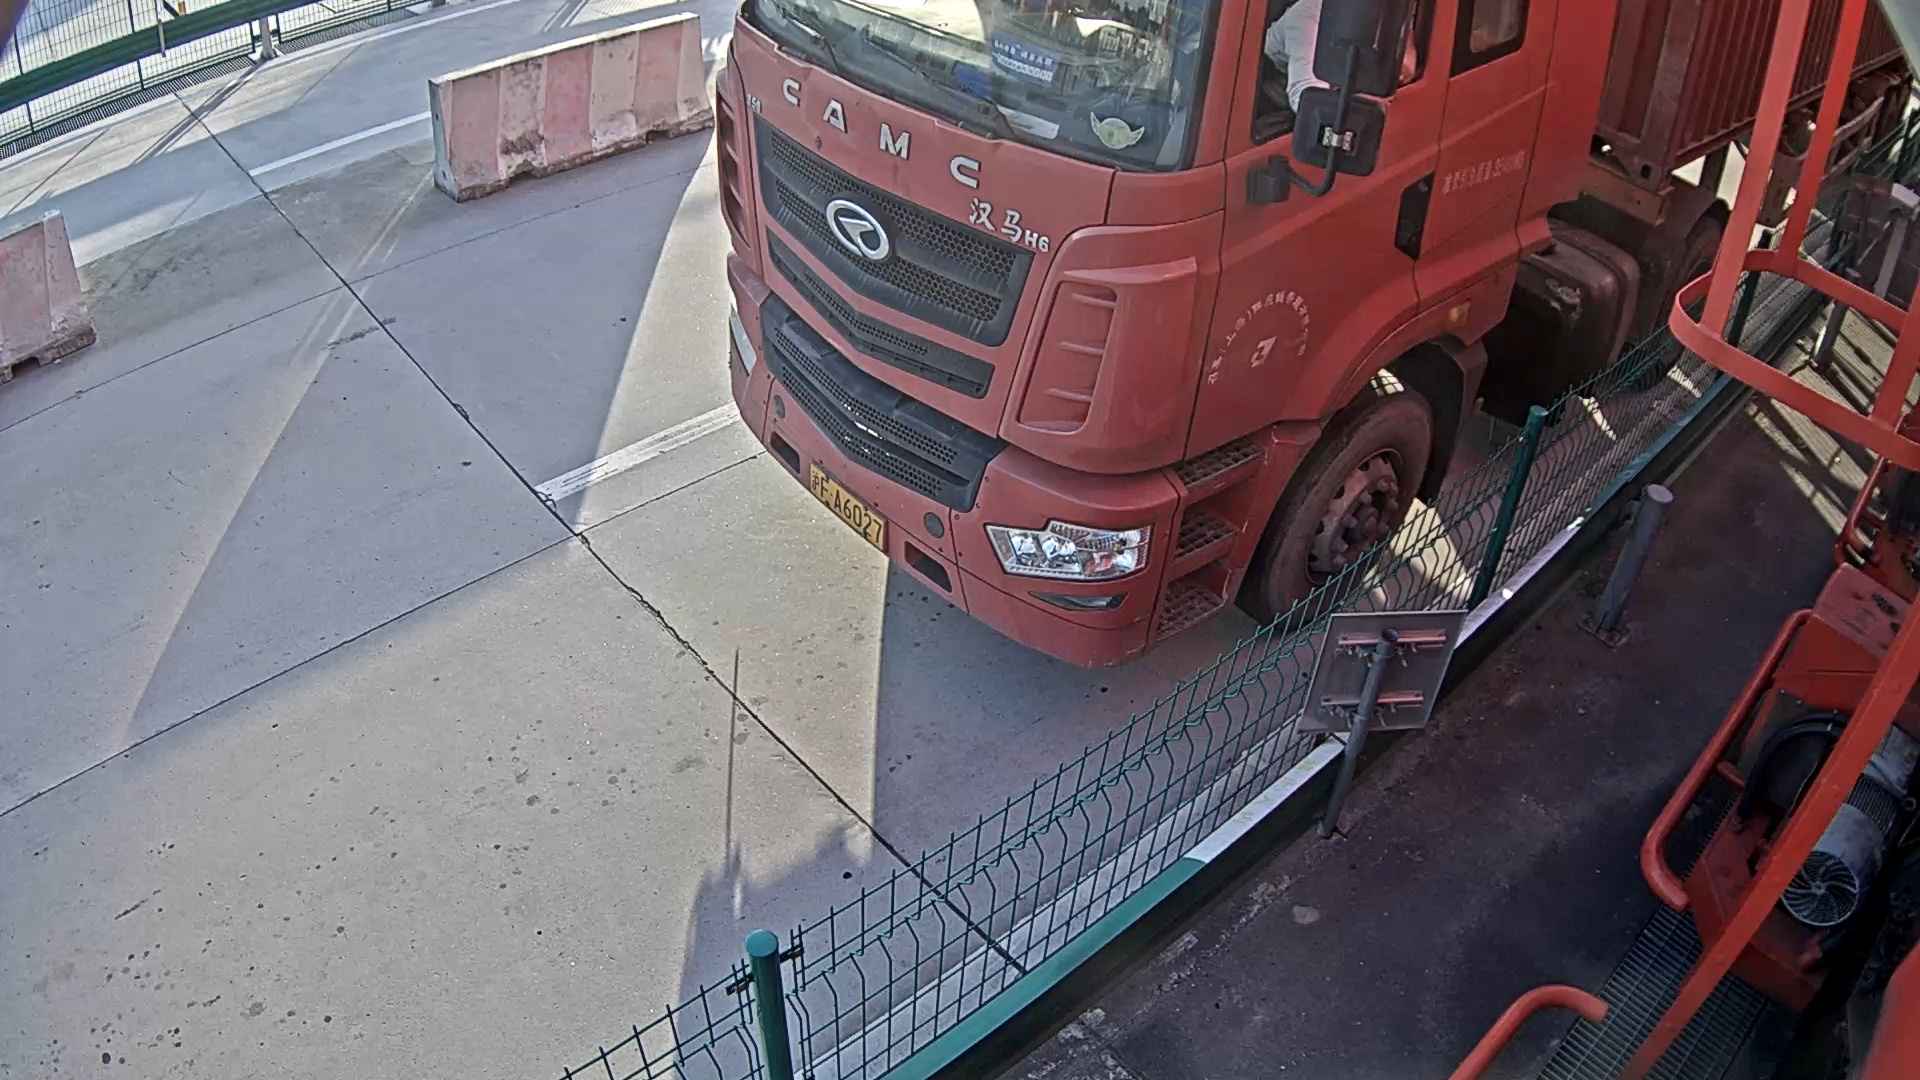head: (699, 29, 1214, 704)
plate: (810, 458, 896, 558)
